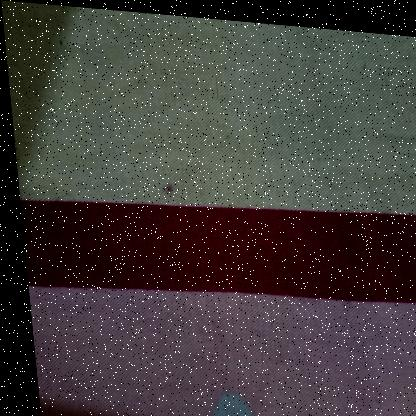spot: (150, 177, 178, 197), (217, 125, 228, 137)
